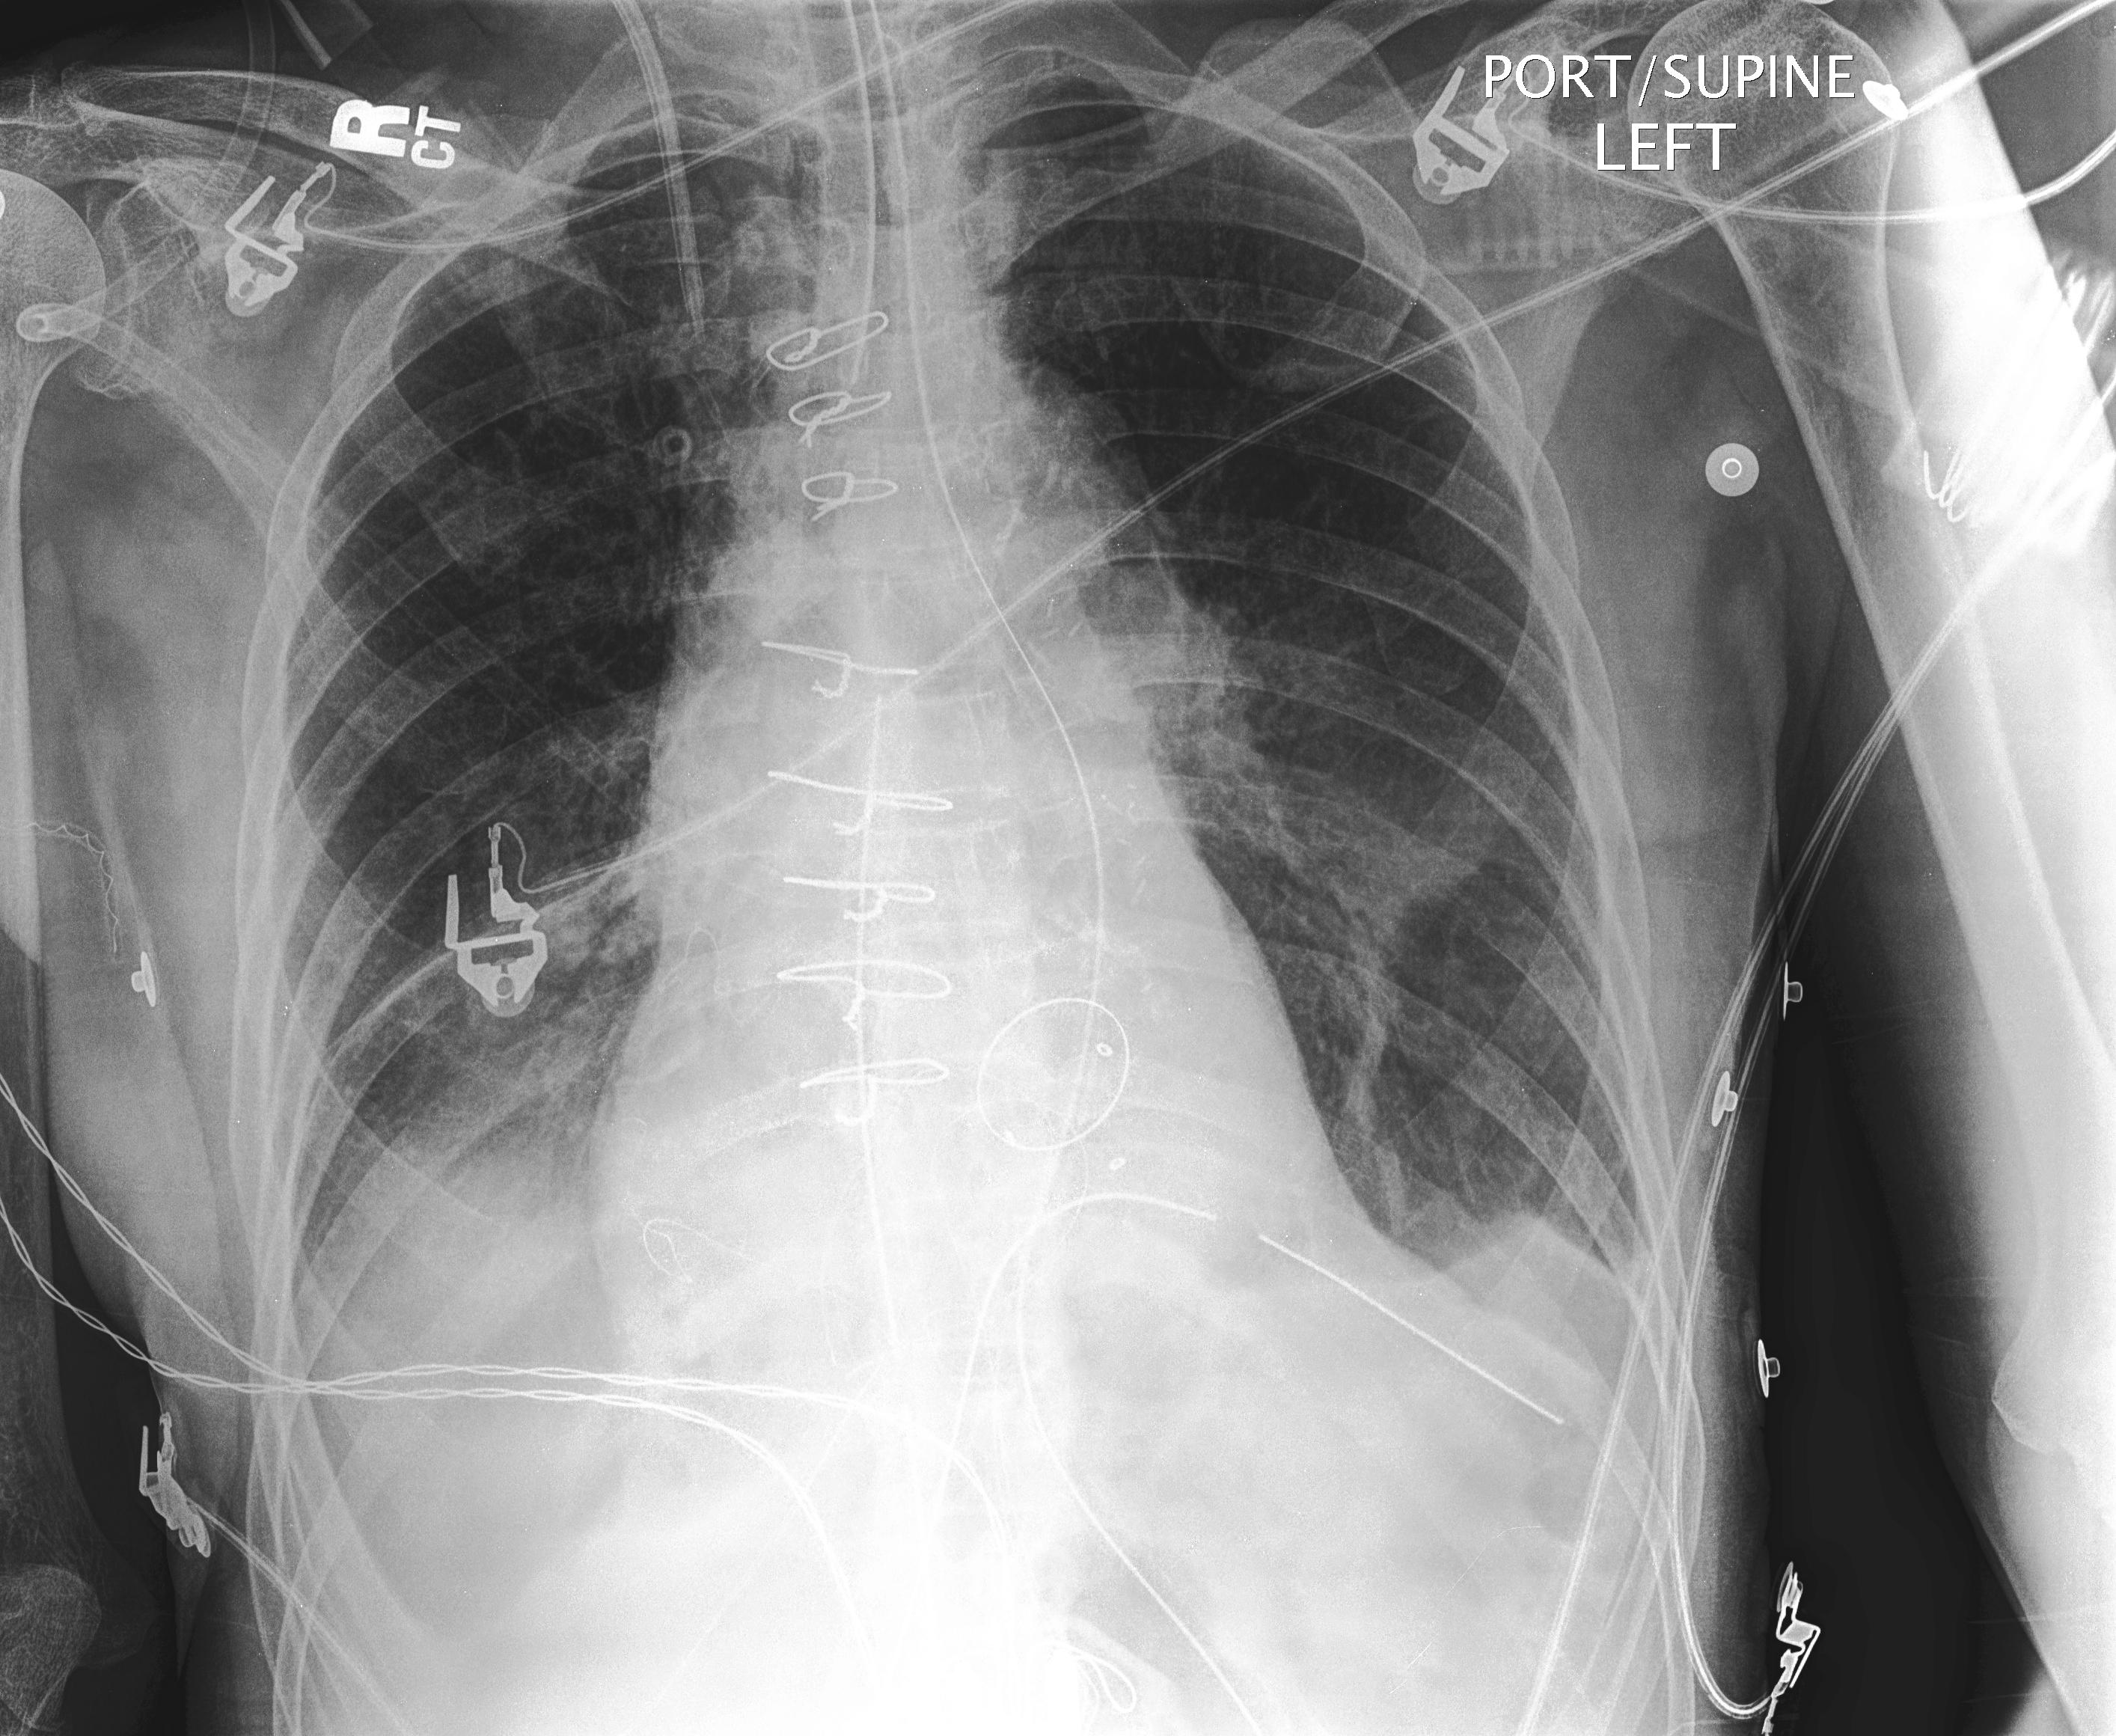Pleural Effusion: (227, 1110, 613, 1516), (1385, 1202, 1721, 1520)
